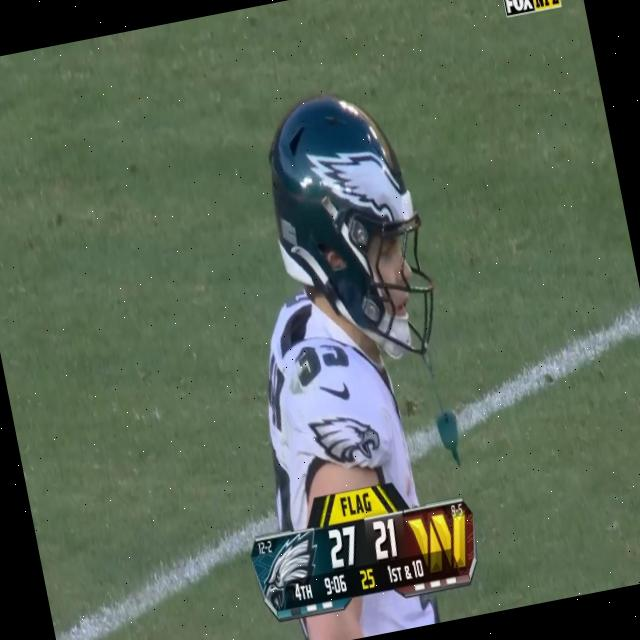Player: (199, 76, 472, 502)
